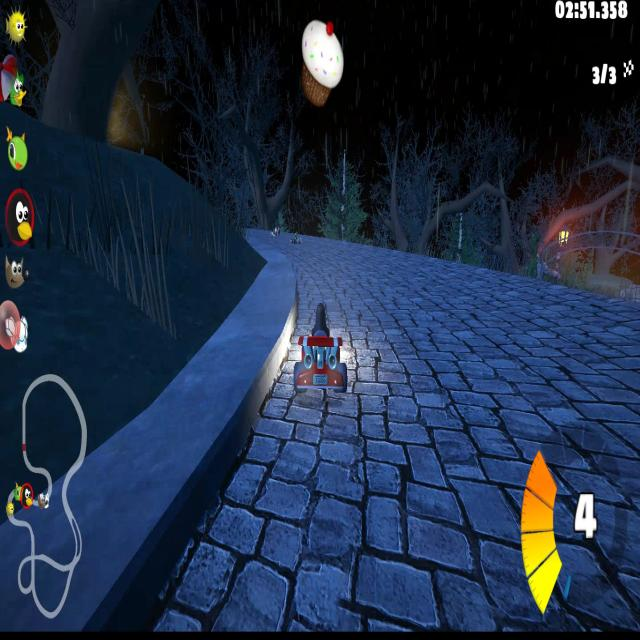player_kart: (297, 304, 348, 403)
track: (263, 392, 638, 640), (351, 298, 640, 394), (292, 250, 487, 304), (228, 464, 262, 632), (182, 554, 230, 640), (488, 269, 570, 297), (208, 510, 229, 551), (283, 348, 289, 389), (250, 228, 268, 236)
